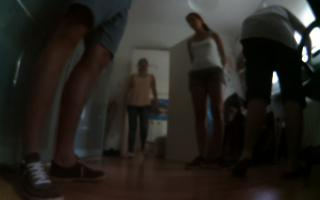person: (18, 1, 129, 197), (235, 3, 312, 164), (176, 9, 233, 170), (121, 54, 159, 161)
